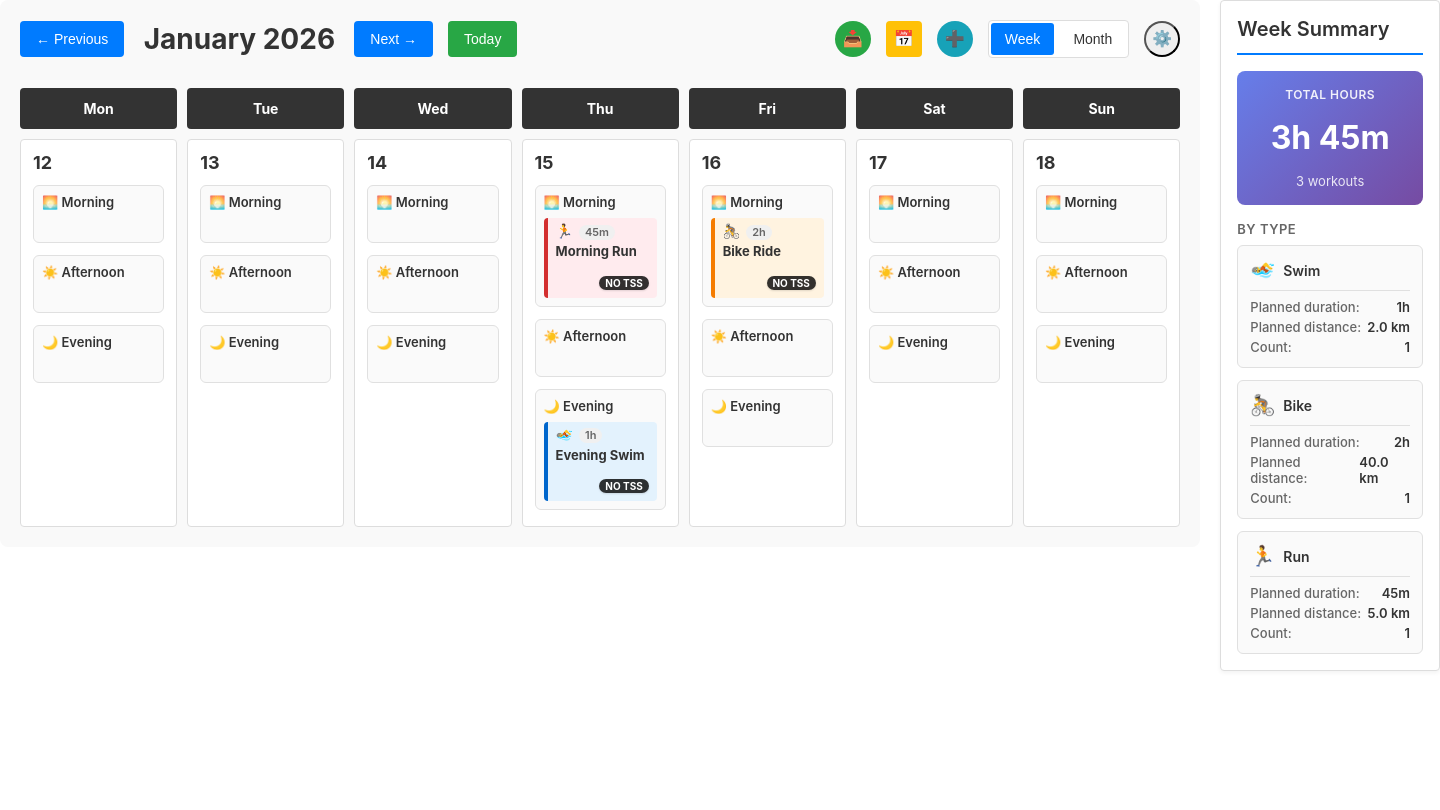
Calendar Component › Workout Modal Interaction › should close modal when close button is clicked
// Open modal
Click the button "Morning Run" at coordinates (602, 252), box top-left (556, 244), bottom-right (649, 260)
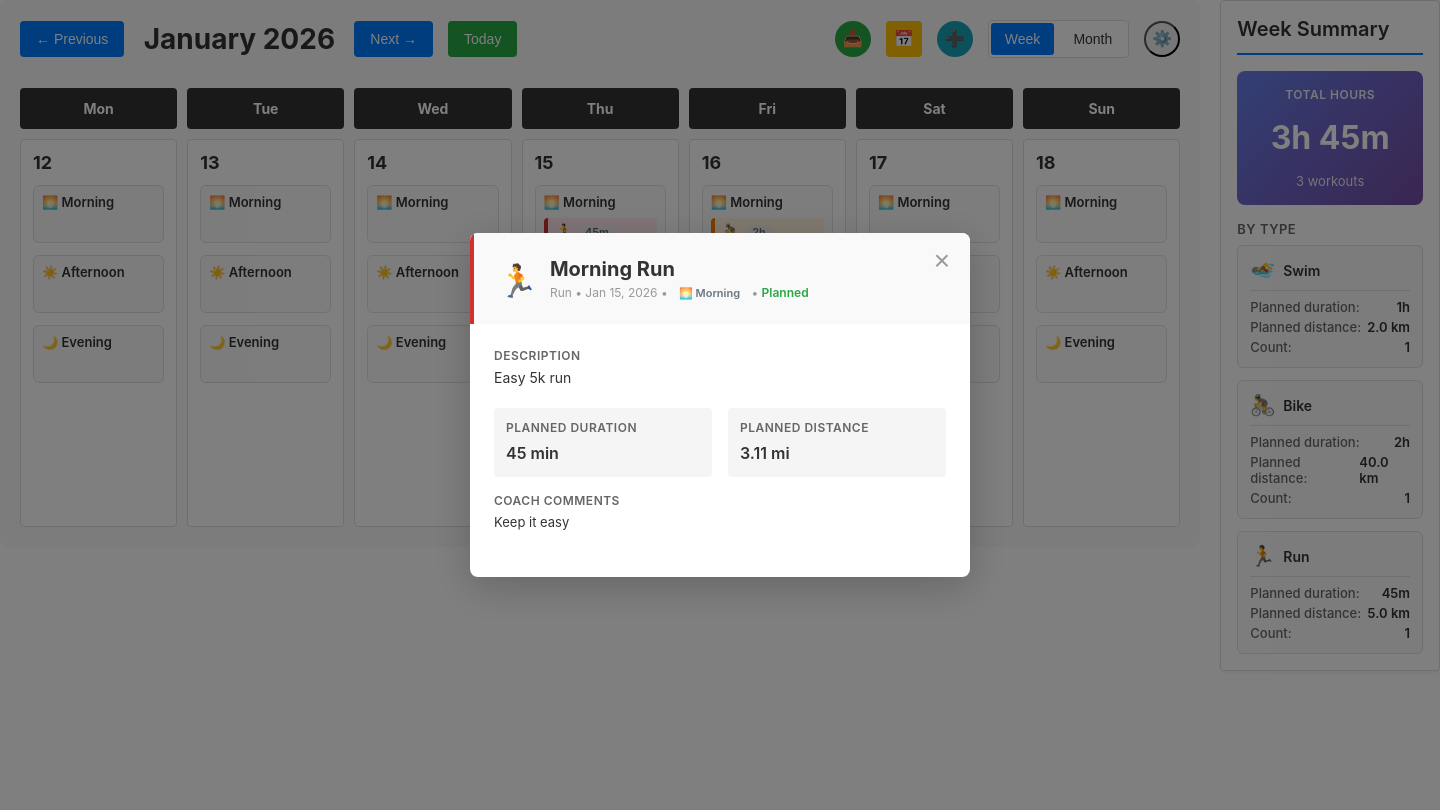
expect the element with class "modal-content" is shown: met, box top-left (470, 233), bottom-right (970, 577)
// Close modal
Click the button with class "modal-close" at coordinates (942, 261), box top-left (926, 245), bottom-right (958, 277)
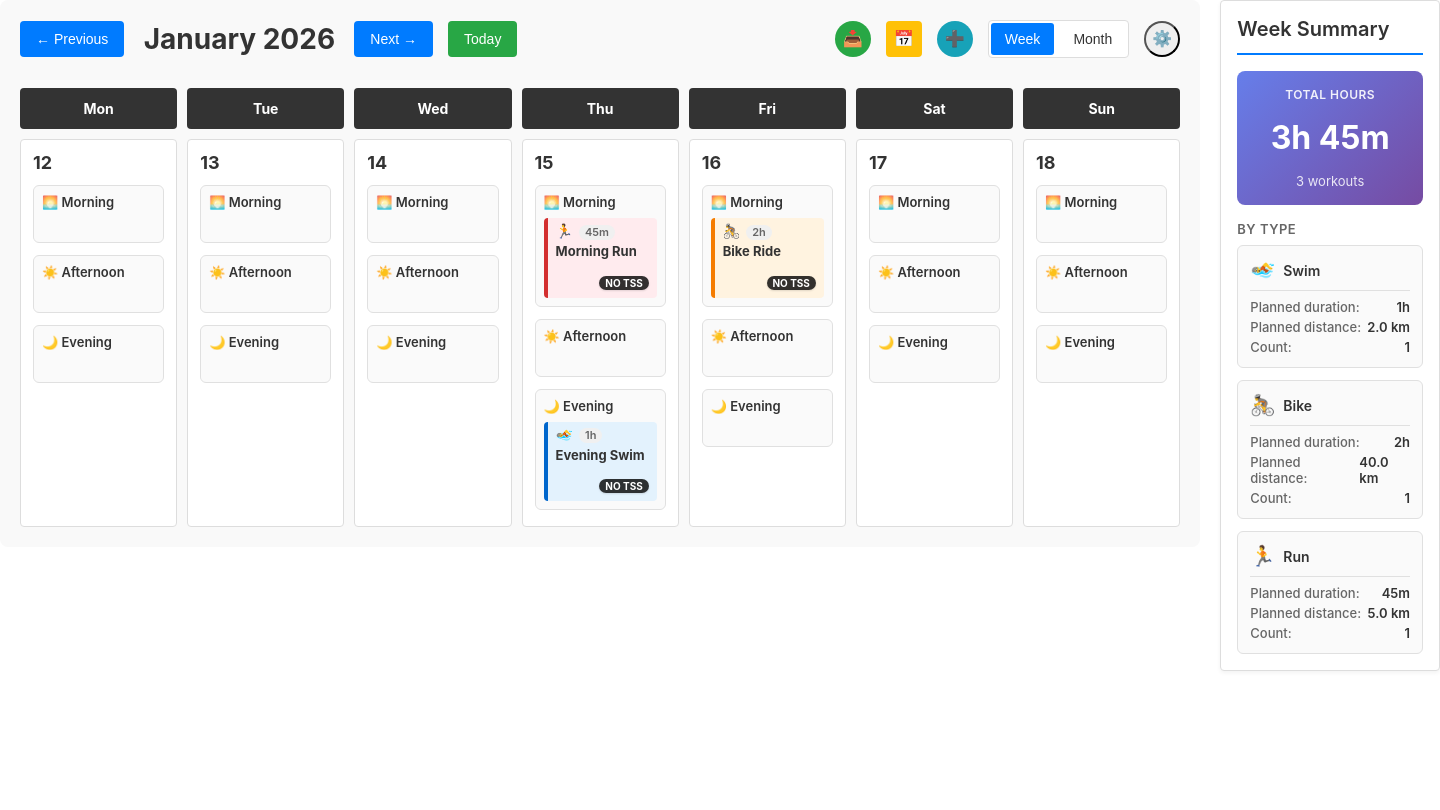
expect the element with class "modal-content" is gone: met
